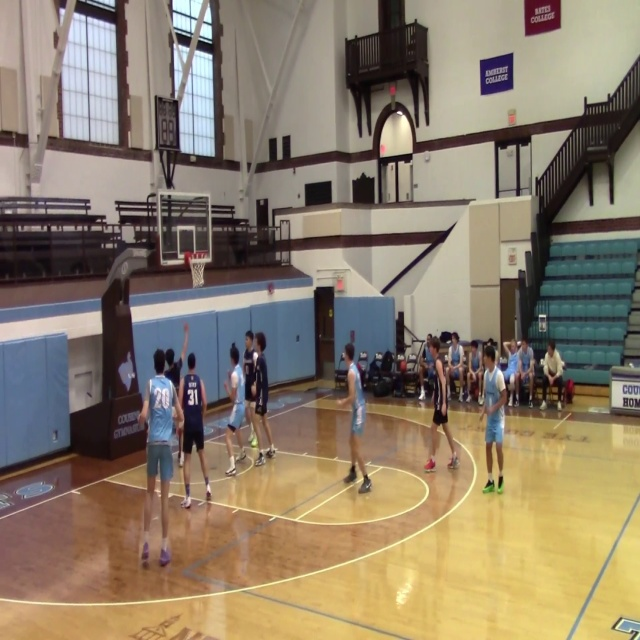Basketball: (448, 368, 460, 379), (267, 282, 274, 294), (183, 323, 189, 332)
